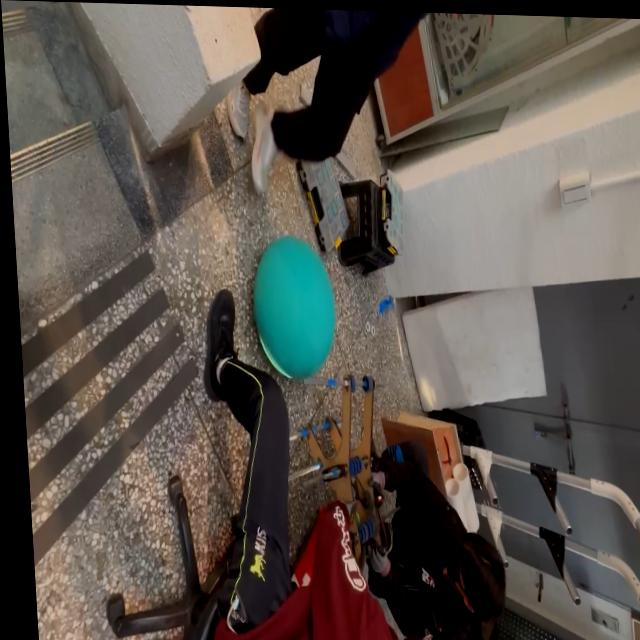ALGAE: (247, 233, 340, 381)
